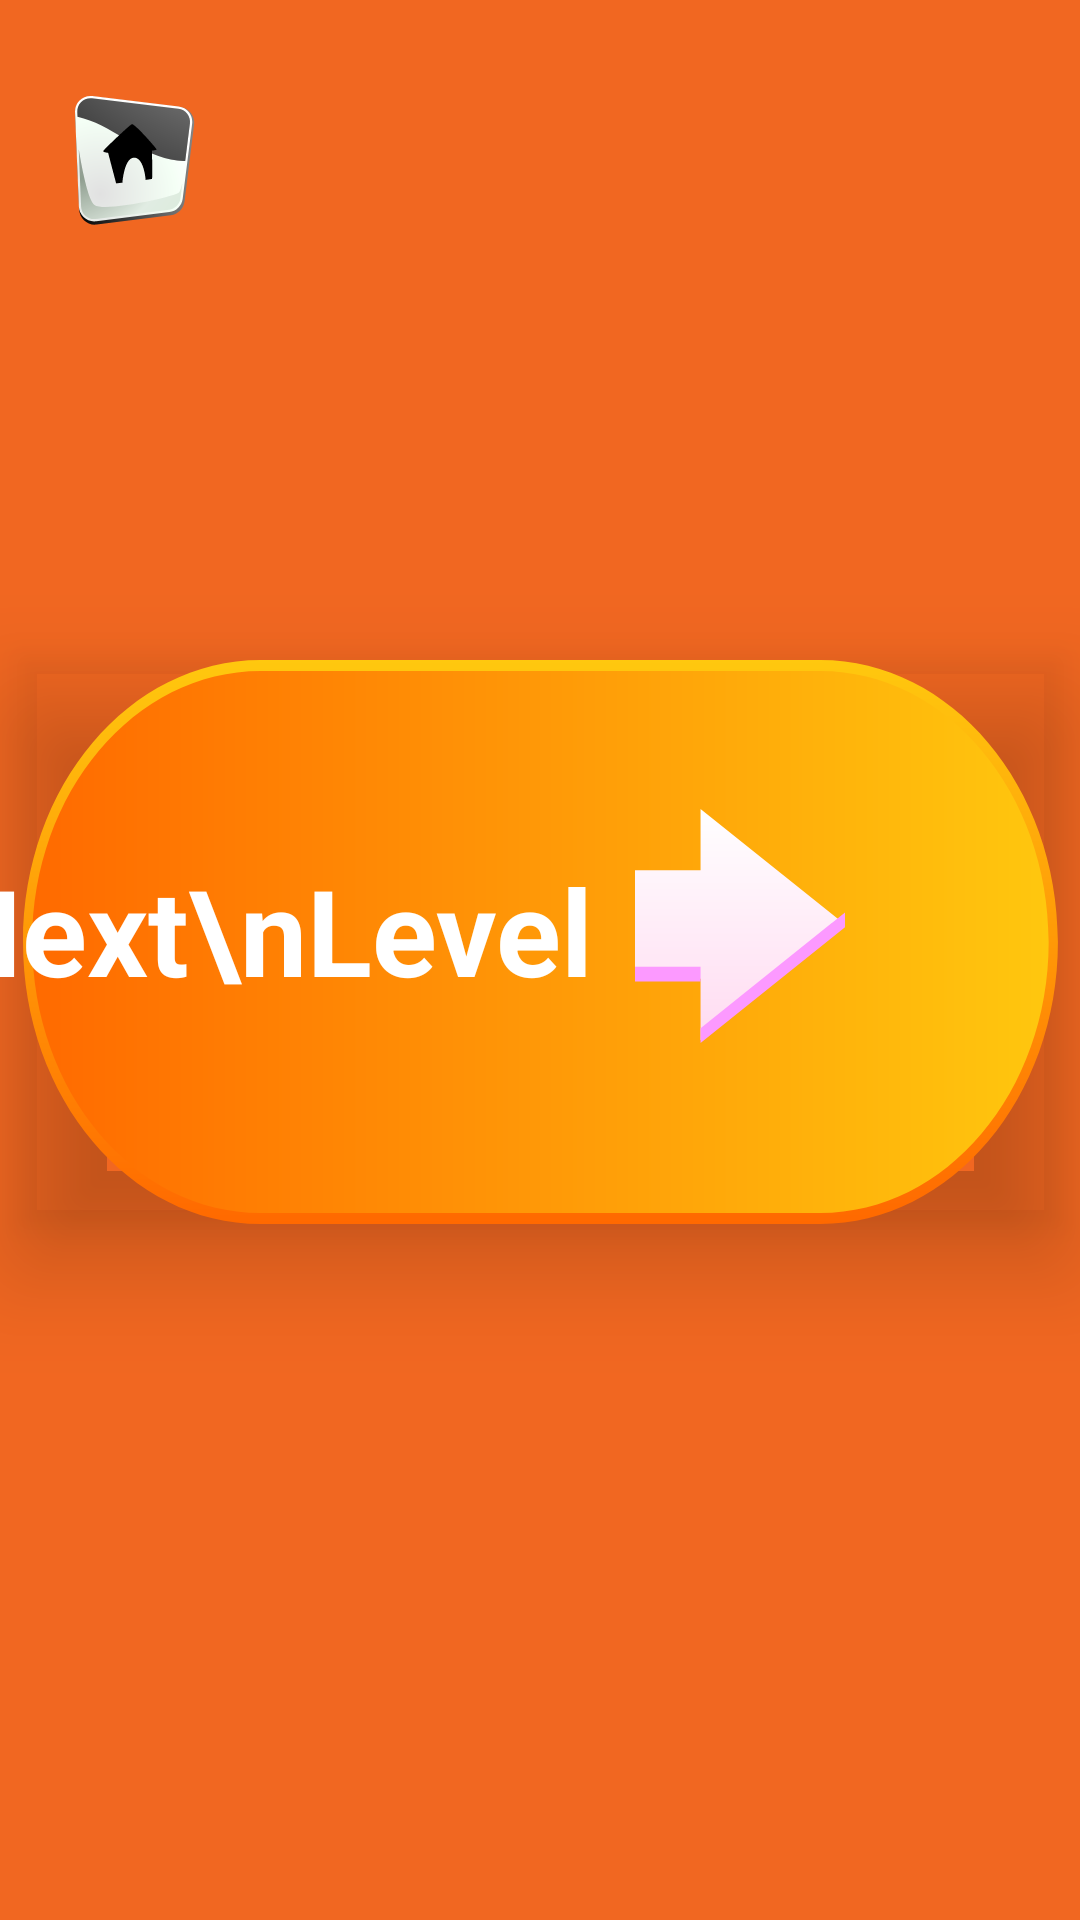

Icon bounding boxes for this 1080px x 1920px phone screenshot, format rect(x1, y1, x2, y2):
home: rect(75, 96, 194, 225)
score arrow: rect(635, 809, 845, 1043)
